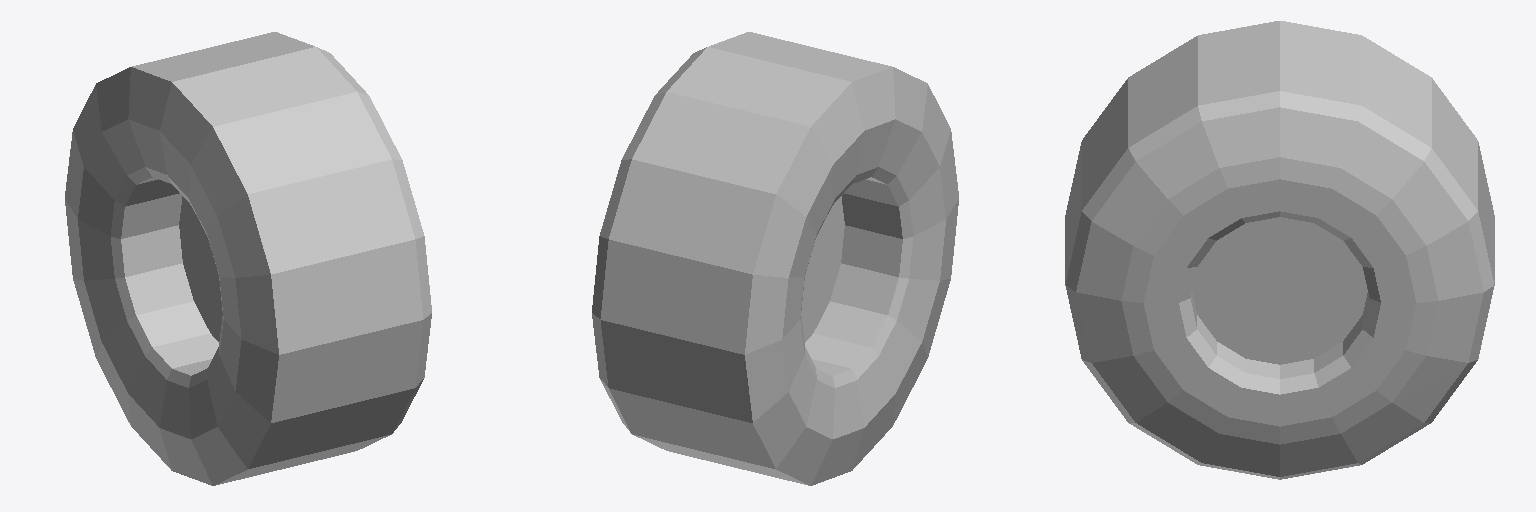
Rendered from tire.obj.
The picture shows the model from 3 angles: view 1: azimuth 30°, elevation 25°; view 2: azimuth 150°, elevation 25°; view 3: azimuth 270°, elevation 25°; orthographic projection.
Parts seen in each view (by area): view 1: Cylinder.001; view 2: Cylinder.001; view 3: Cylinder.001.
Part boxes in pixels (x1,y1,x2,y2): Cylinder.001: (65,32,431,485); Cylinder.001: (592,32,958,485); Cylinder.001: (1065,21,1494,479).
Size of the model in its own units: 0.3076 by 0.5936 by 0.5936.